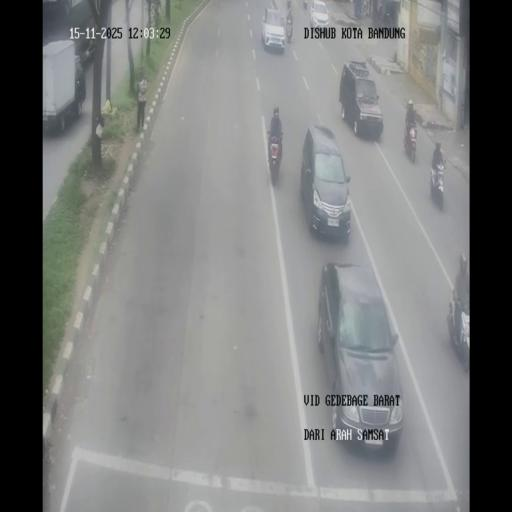car: (317, 264, 401, 449), (300, 124, 350, 240), (340, 60, 382, 138), (261, 7, 286, 53), (74, 55, 86, 107), (309, 0, 328, 30)
motorcycle: (447, 288, 469, 372), (429, 154, 446, 211), (267, 131, 283, 183), (404, 120, 418, 162), (286, 15, 294, 43), (382, 10, 392, 27), (377, 3, 383, 23), (362, 0, 369, 17), (286, 0, 291, 11), (303, 0, 308, 10)
truck: (41, 39, 80, 135), (65, 1, 98, 65)
